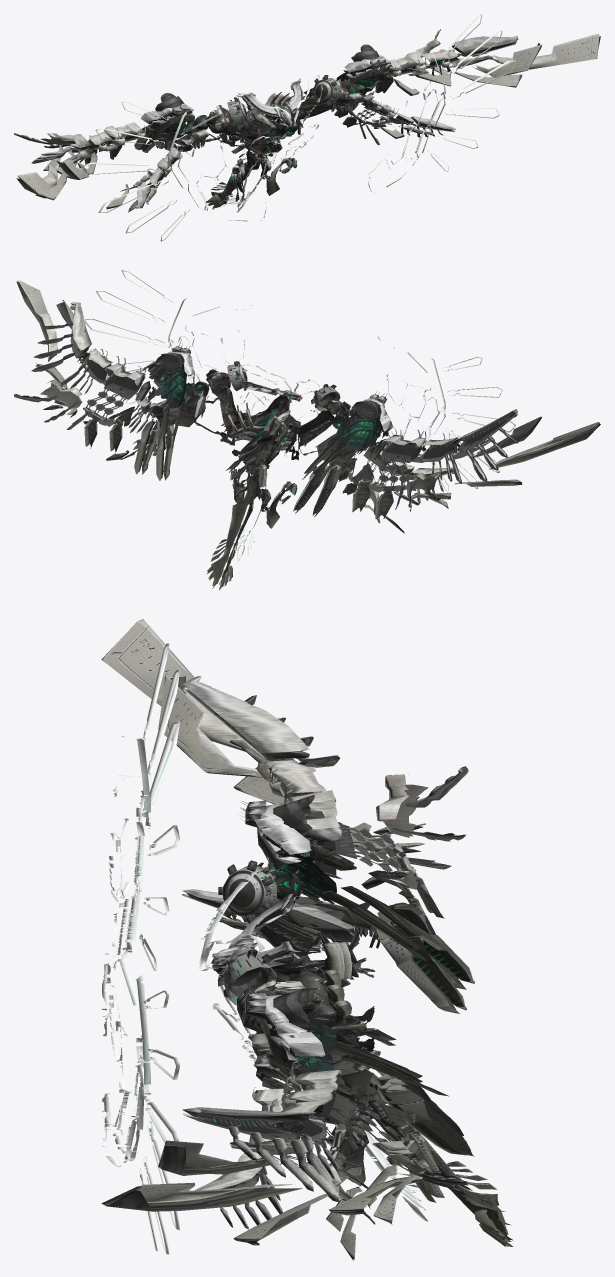
The model's file is eba001_anmi.glb.
The picture shows the model from 3 angles, top to bottom: view 1: azimuth 30°, elevation 25°; view 2: azimuth 150°, elevation 25°; view 3: azimuth 270°, elevation 25°; orthographic projection. The views are drawn at different scales.
Parts seen in each view (by area): view 1: eba001_anmi; view 2: eba001_anmi; view 3: eba001_anmi.
Part boxes in pixels (box(x1,y1,x2,y2)): eba001_anmi: box(14, 14, 600, 241); eba001_anmi: box(14, 270, 600, 590); eba001_anmi: box(101, 619, 512, 1260).
Size of the model in its own units: 80.14 by 27.79 by 24.47.
7 materials, 7 textured.
